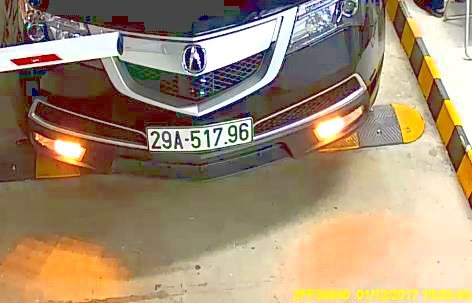plate: (142, 118, 258, 154)
